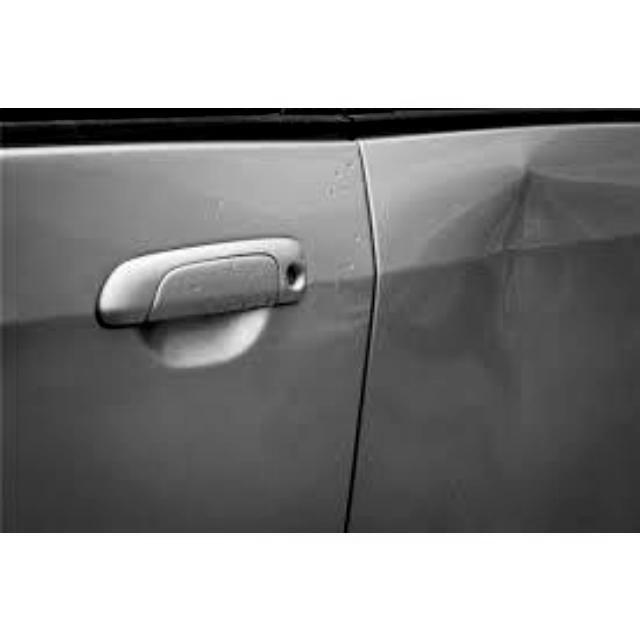doorouter-dent: (347, 140, 623, 456)
